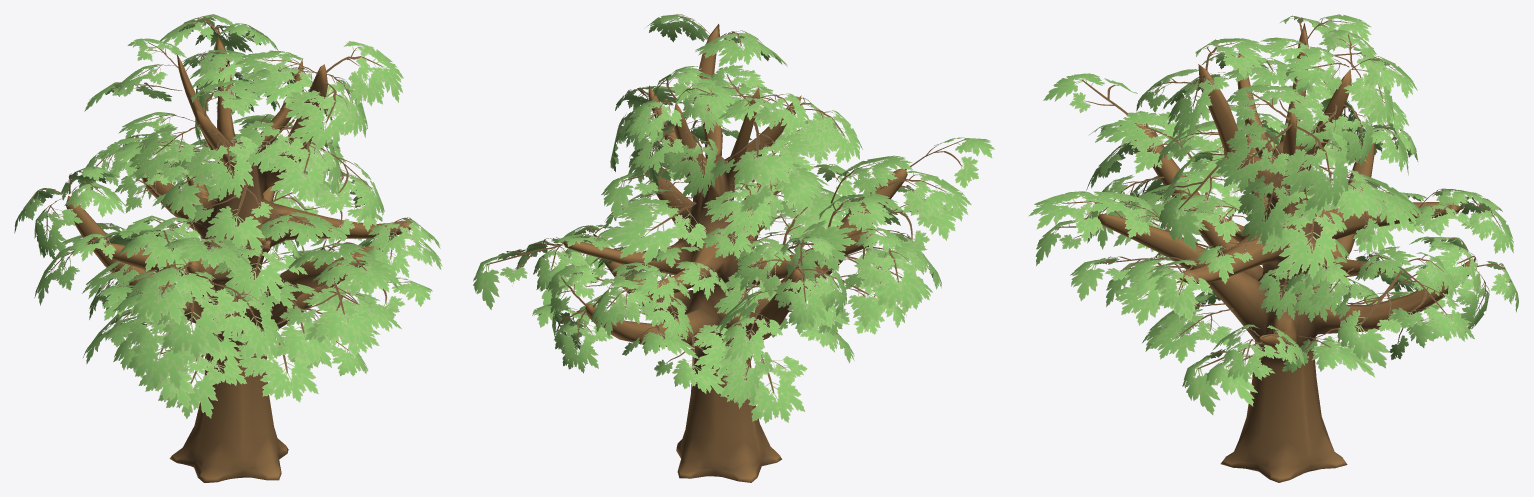
Rendered from Boom.fbx.
The picture shows the model from 3 angles, left to right: view 1: azimuth 30°, elevation 25°; view 2: azimuth 150°, elevation 25°; view 3: azimuth 270°, elevation 25°; orthographic projection. The views are drawn at different scales.
Parts seen in each view (by area): view 1: Boom; view 2: Boom; view 3: Boom.
Boxes of the visible parts, bbox=[...] form: Boom: bbox=[14, 14, 442, 482]; Boom: bbox=[473, 14, 994, 482]; Boom: bbox=[1028, 14, 1518, 482].
Bounding box in the file's own units: 9.52 × 9.79 × 10.34.
